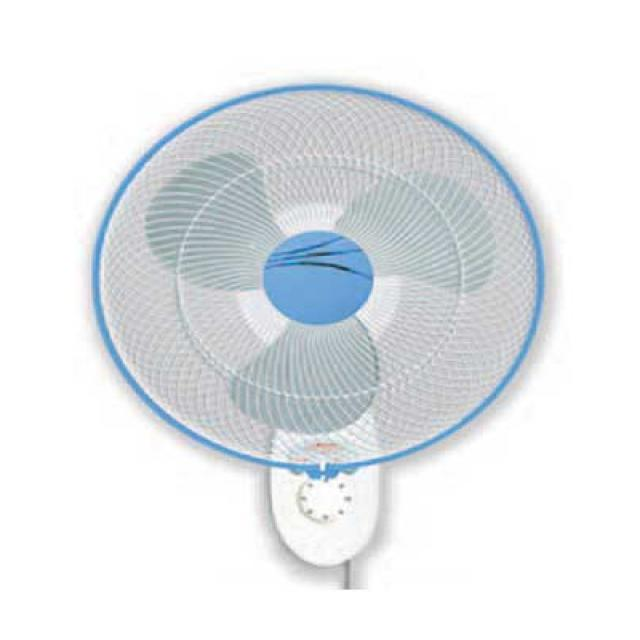fan: (76, 73, 558, 612)
